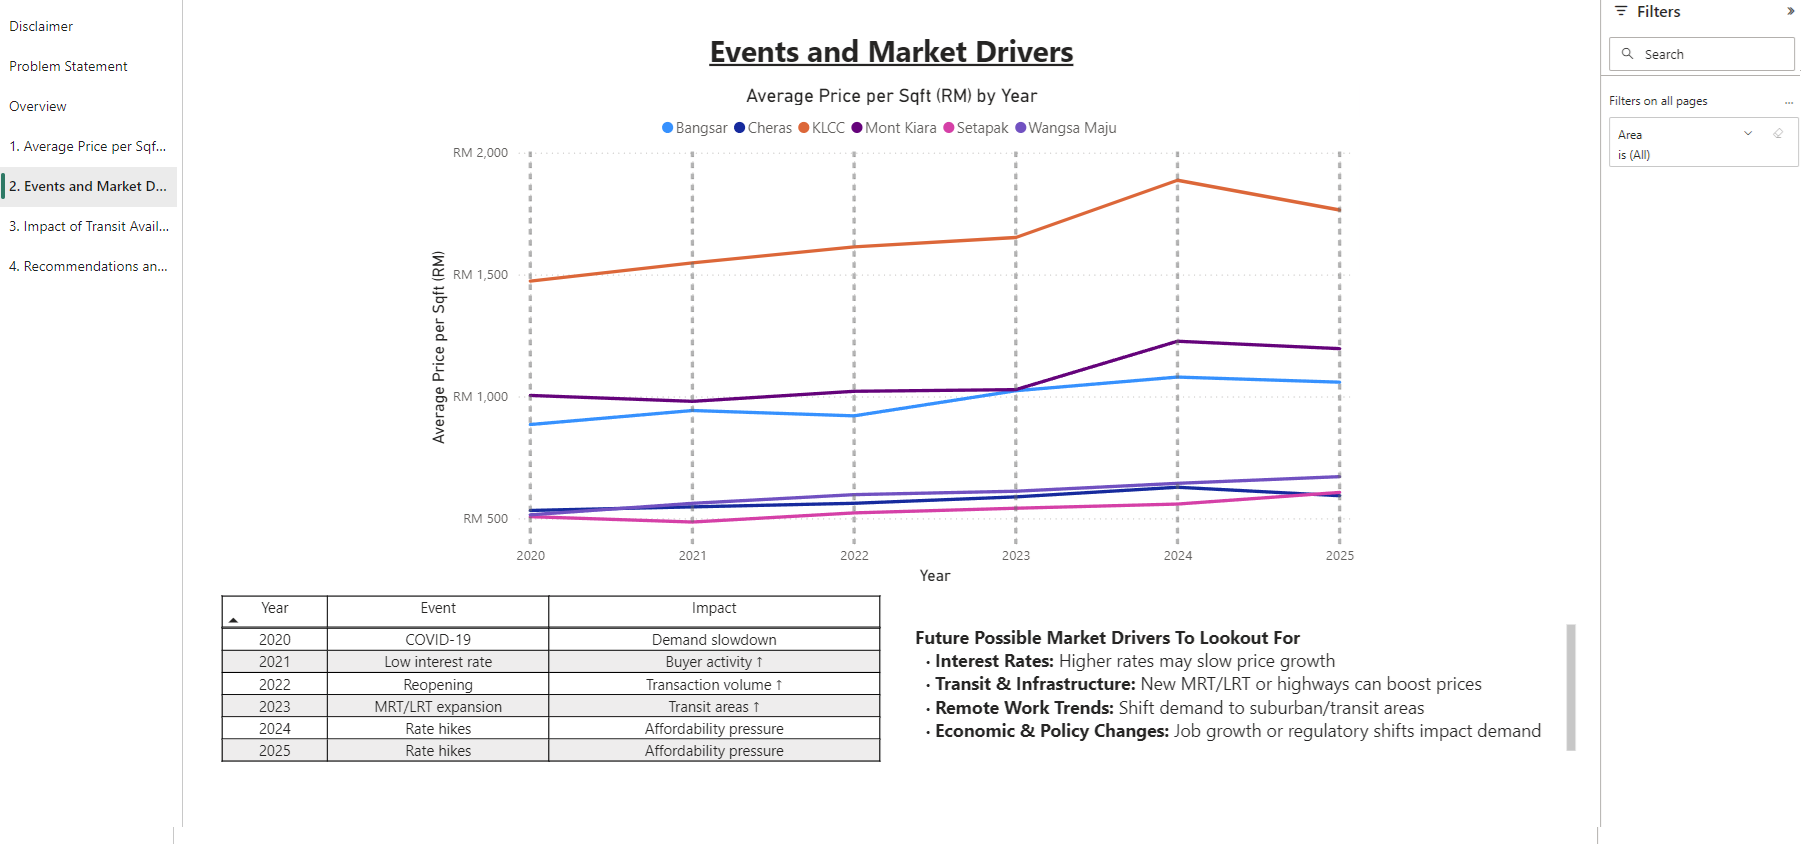

The dashboard page shown, as its layout file describes it:
{"tool":"powerbi","page":{"name":"2. Events and Market Drivers","canvas":[1280,720],"ordinal":4},"visuals":[{"type":"lineChart","title":"Average Price per Sqft (RM) by Year","fields":{"Y":["kl_housing_prices_2020_2025_synthetic.Average Price per Sqft (RM)"],"Series":["kl_housing_prices_2020_2025_synthetic.location"],"Category":["Date Table.Date.Variation.Date Hierarchy.Year"]},"box":[217.5,82.8,845,457.7],"z":0},{"type":"textbox","box":[135.1,29.2,1008.6,54.1],"z":1000},{"type":"tableEx","fields":{"Values":["Event Timeline.Column1","Event Timeline.Column2","Event Timeline.Column3"]},"box":[29,540.6,610,179.2],"z":2000},{"type":"textbox","box":[655.6,566.1,606.7,128],"z":2001}]}

Visuals, with their boxes on the page's 1280x720 design canvas (x1, y1, x2, y2). These are canvas units, not pixel positions in the 1801x844 screenshot, which may show the page scaled, cropped or inside an application window:
"Average Price per Sqft (RM) by Year" lineChart: <region>218, 83, 1062, 540</region>
textbox: <region>135, 29, 1144, 83</region>
tableEx - Event Timeline.Column1 x Event Timeline.Column2: <region>29, 541, 639, 720</region>
textbox: <region>656, 566, 1262, 694</region>
